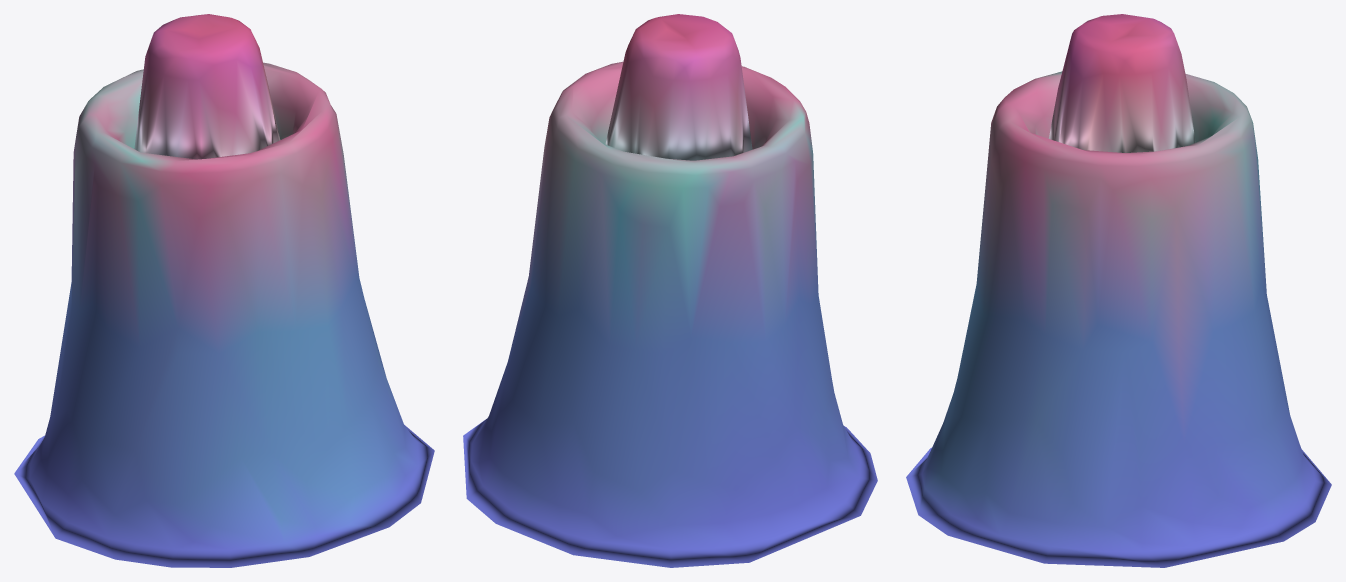
3 renders of one model, left to right at view 1: azimuth 30°, elevation 25°; view 2: azimuth 150°, elevation 25°; view 3: azimuth 270°, elevation 25°, orthographic.
Visible parts, largest first — view 1: LOD 4_18409866040645993065_000c7580005880844991c3b836c91307; view 2: LOD 4_18409866040645993065_000c7580005880844991c3b836c91307; view 3: LOD 4_18409866040645993065_000c7580005880844991c3b836c91307.
Boxes of the visible parts, x1,y1,x2,y2 form: LOD 4_18409866040645993065_000c7580005880844991c3b836c91307: (14, 14, 434, 567); LOD 4_18409866040645993065_000c7580005880844991c3b836c91307: (463, 14, 877, 567); LOD 4_18409866040645993065_000c7580005880844991c3b836c91307: (906, 14, 1331, 567).
Bounding box in the file's own units: 1.24 × 1.49 × 1.25.
